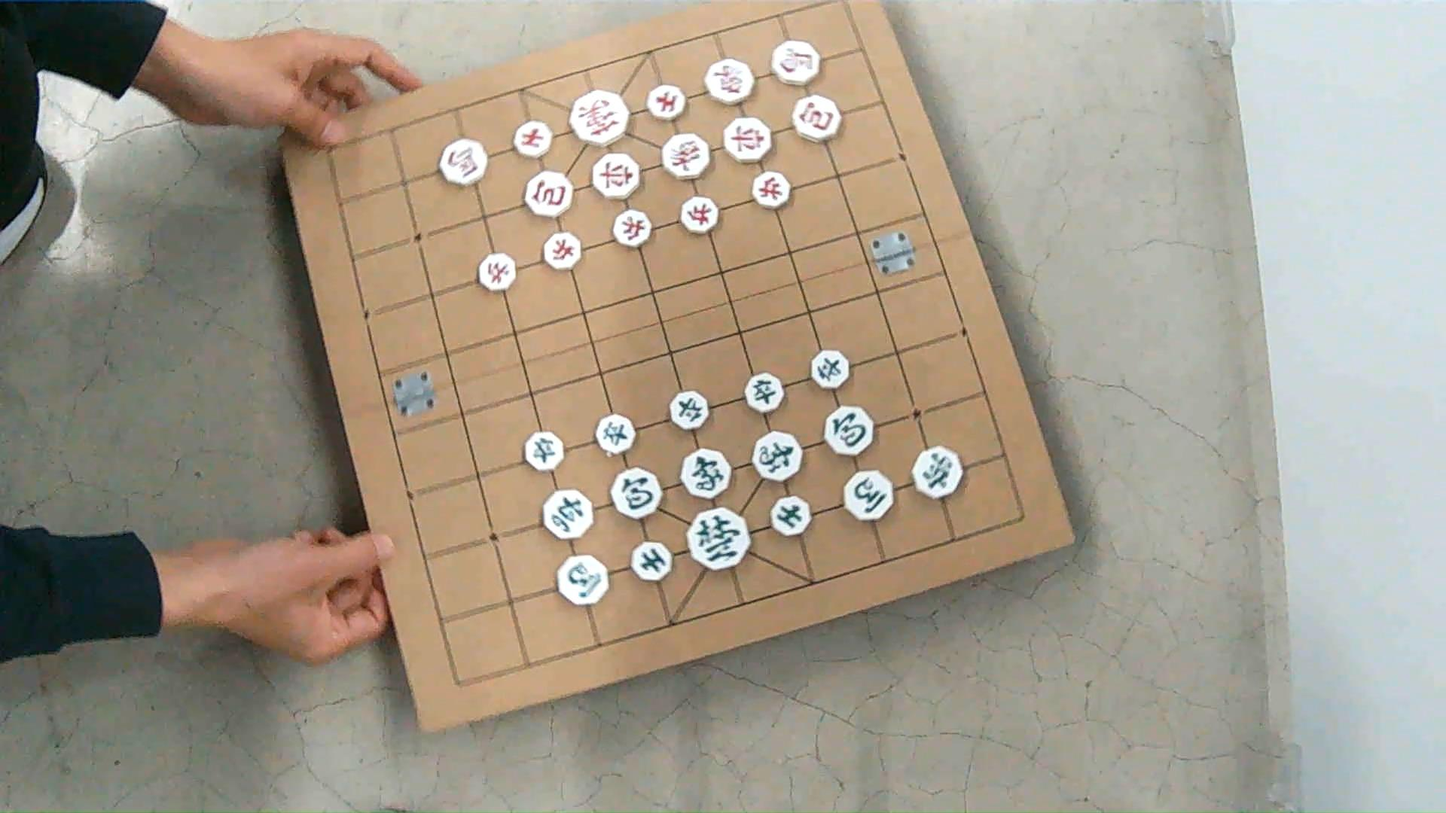cha_green: (912, 446, 962, 498), (542, 489, 593, 539)
cha_red: (723, 117, 772, 163), (592, 153, 639, 199)
jol_green: (523, 431, 563, 471), (810, 349, 850, 389), (596, 414, 635, 455), (670, 391, 708, 430), (746, 373, 782, 413)
jol_red: (753, 171, 792, 209), (612, 210, 650, 247), (478, 254, 515, 291), (543, 233, 581, 269), (682, 196, 718, 233)
ma_green: (557, 556, 608, 604), (844, 470, 892, 520)
ma_red: (772, 39, 821, 85), (439, 139, 487, 185)
po_green: (611, 467, 661, 519), (825, 406, 874, 455)
po_red: (792, 95, 841, 142), (524, 171, 572, 218)
sa_green: (770, 495, 810, 536), (632, 542, 671, 581)
sa_red: (514, 120, 553, 158), (648, 84, 685, 120)
sang_green: (682, 449, 731, 499), (753, 431, 801, 481)
sang_red: (662, 133, 710, 179), (706, 59, 753, 105)
wang_green: (688, 507, 750, 570)
wang_red: (569, 90, 629, 145)
